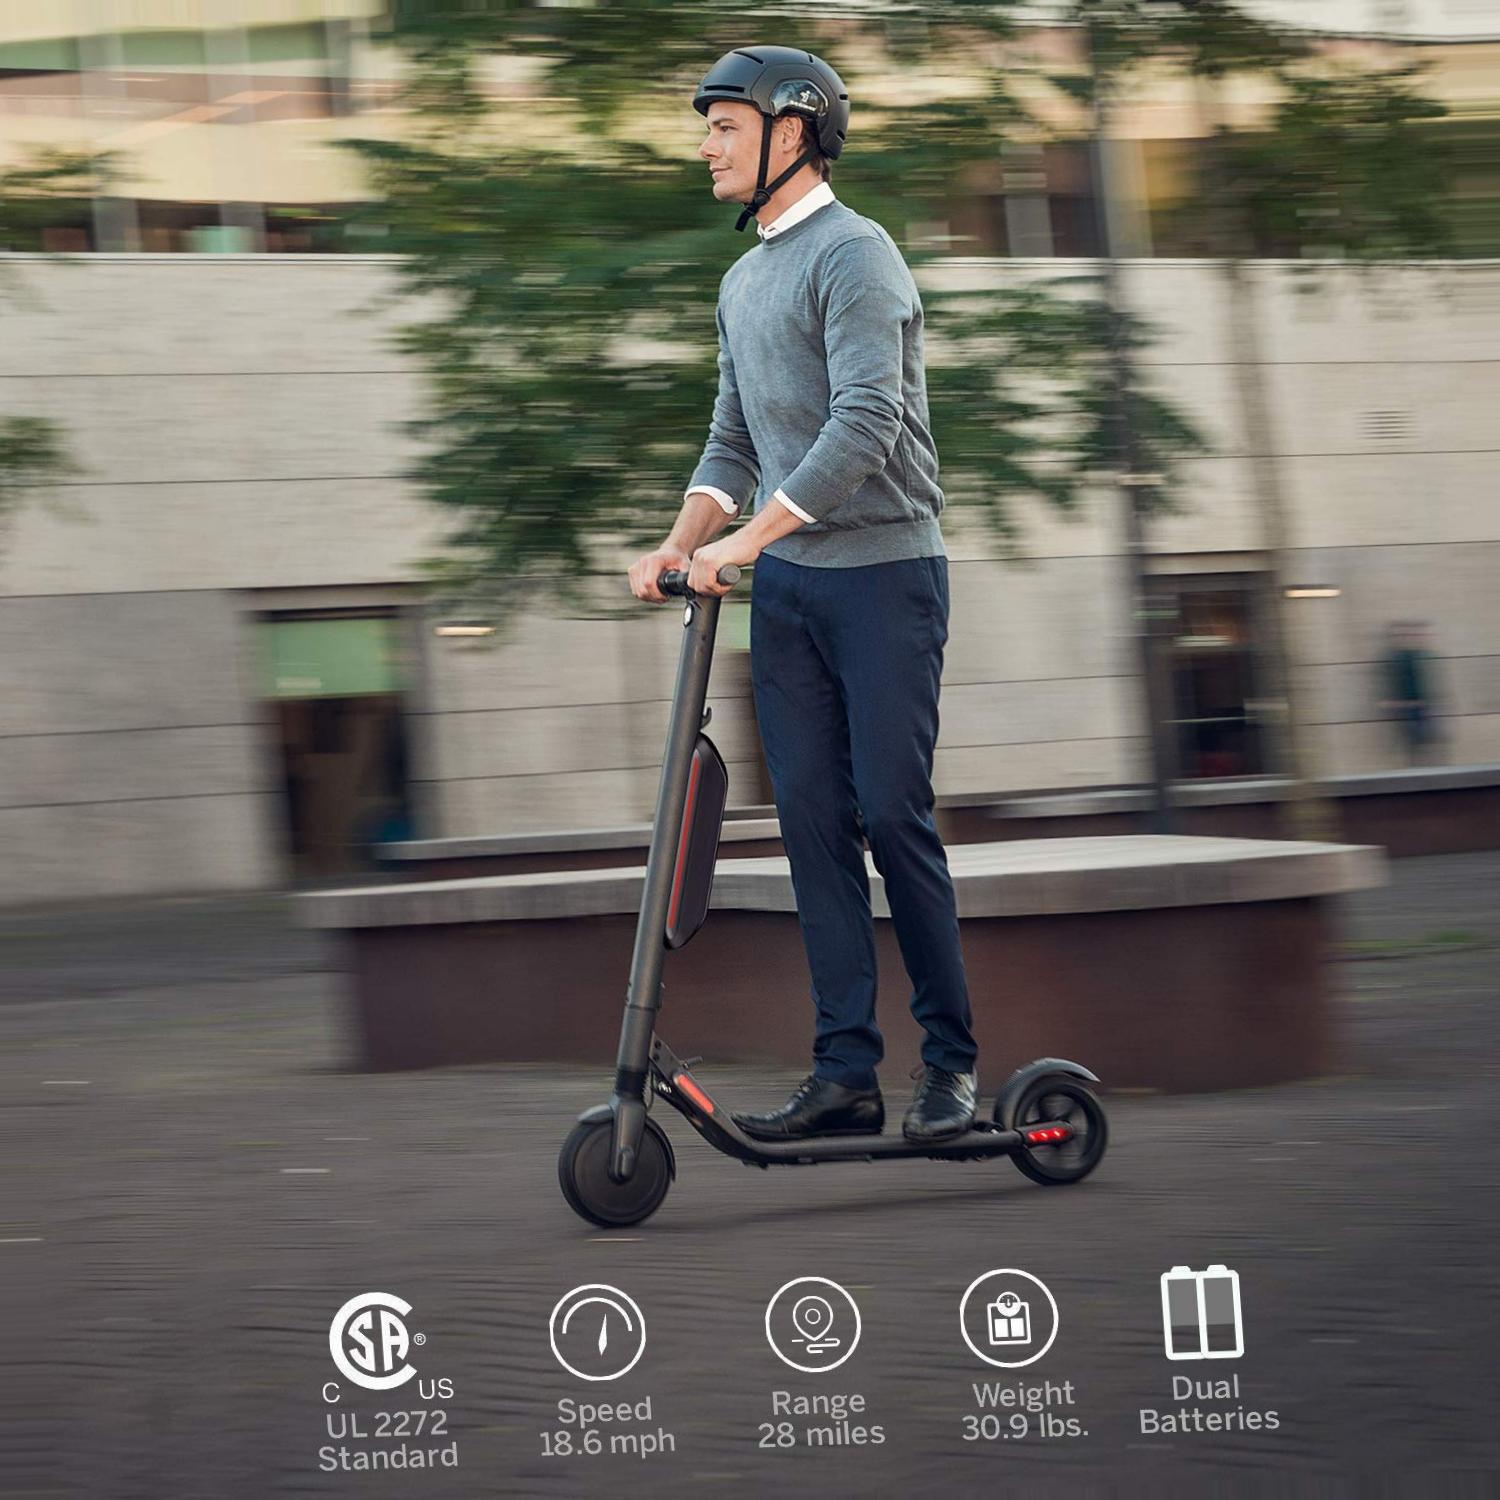scooter: (556, 562, 1111, 1227)
with helmet: (695, 47, 853, 205)
